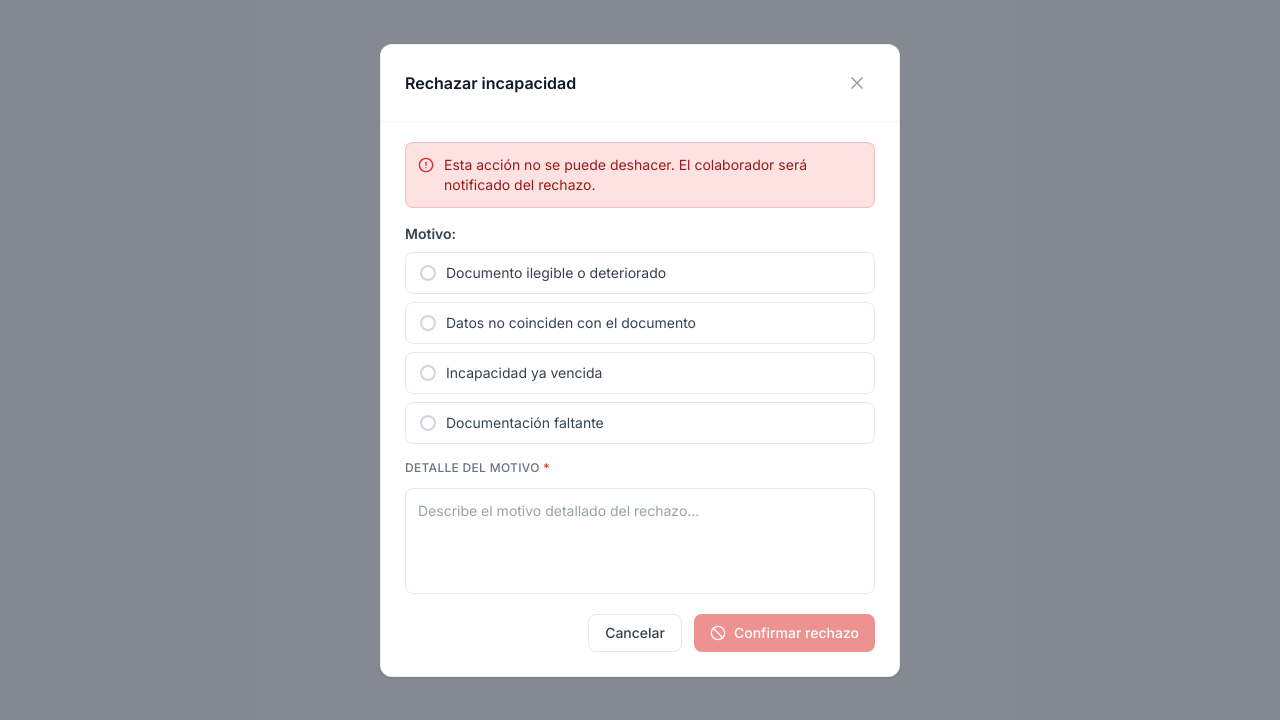
it: RejectIncapacityModal › modo documentación faltante muestra inputs por documento
Click the button "Documentación faltante". click: (525, 422)
box: [405, 402, 875, 444]
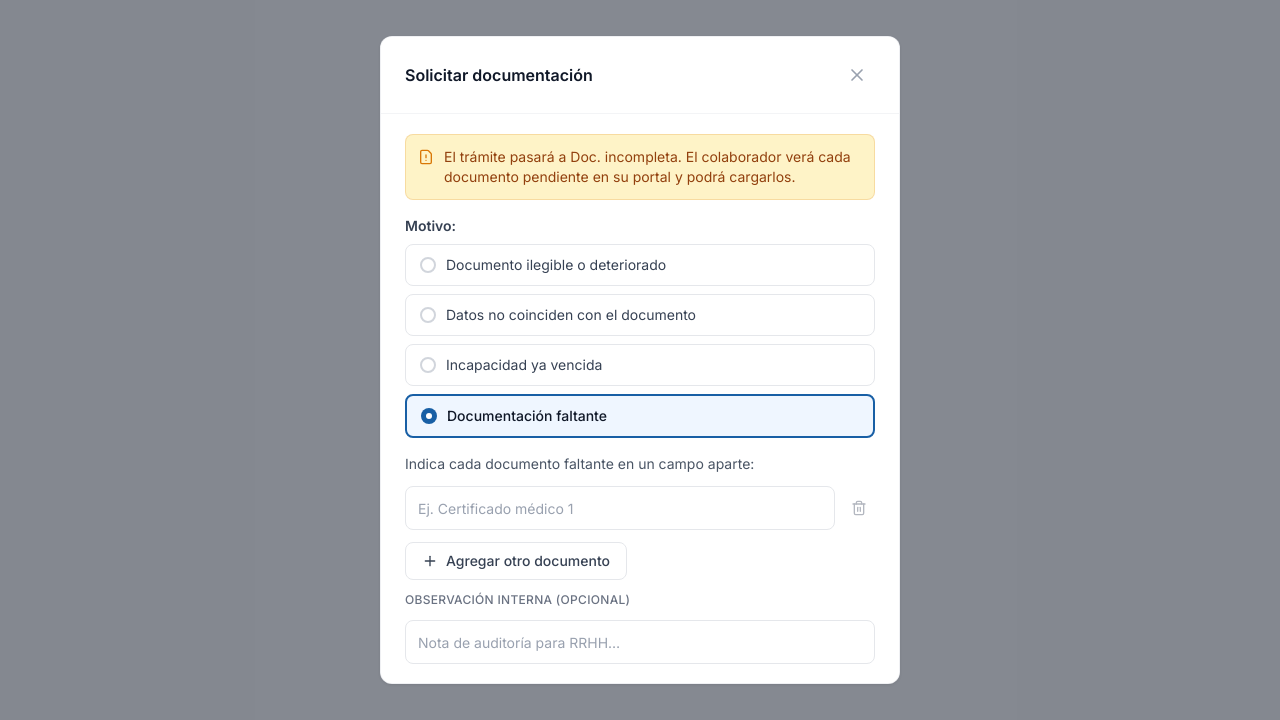
Expected: the heading "Solicitar documentación" is shown, [405, 63, 593, 87]
Expected: the field named "documento faltante 1" is shown, [405, 486, 835, 530]
Click the button "Agregar otro documento". click: (516, 561)
box: [405, 542, 627, 580]
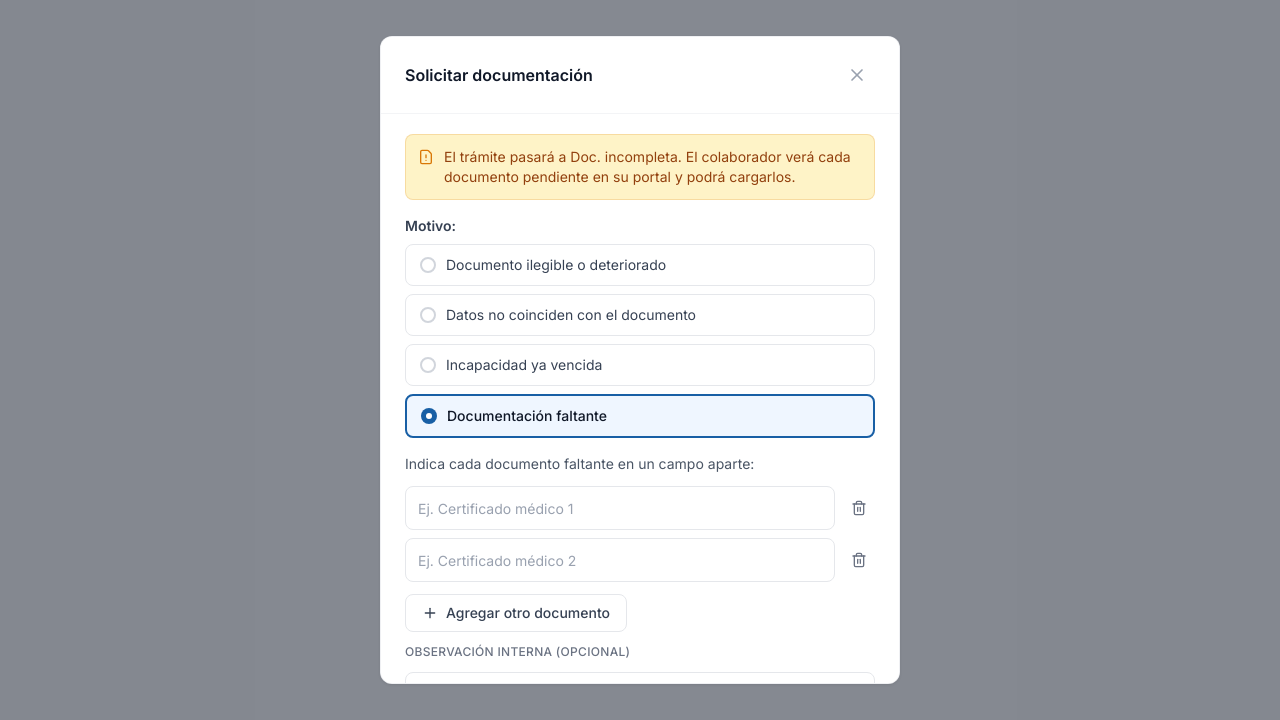
Expected: the field named "documento faltante 2" is shown, [405, 538, 835, 582]
